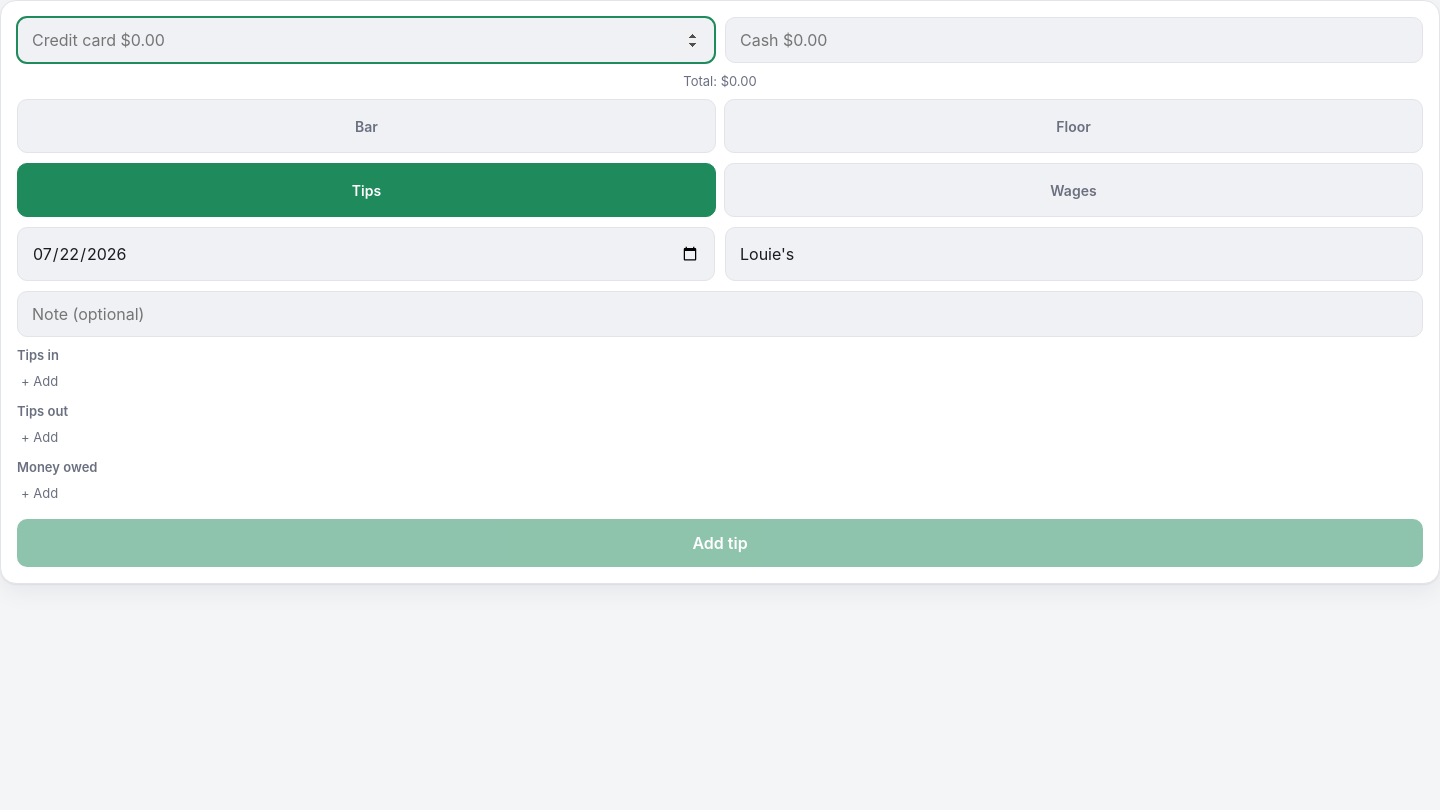
TipForm › verbose mode › requires a shift type to be picked before submitting
Expected: the button "Add tip" is disabled, [17,519,1423,567]
Click the button "Bar": (366, 126) [17,99,716,153]
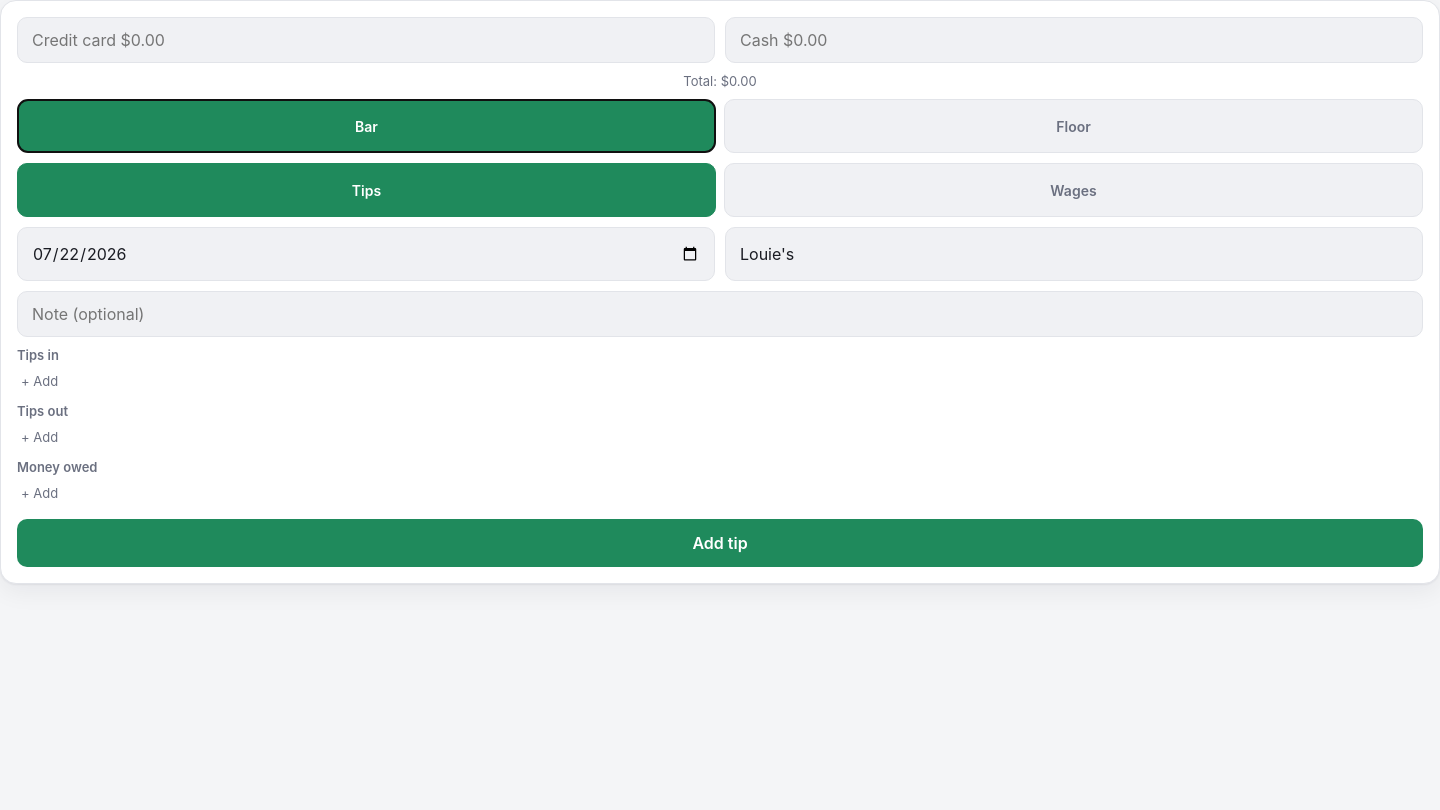
Expected: the button "Add tip" is enabled, [17,519,1423,567]
